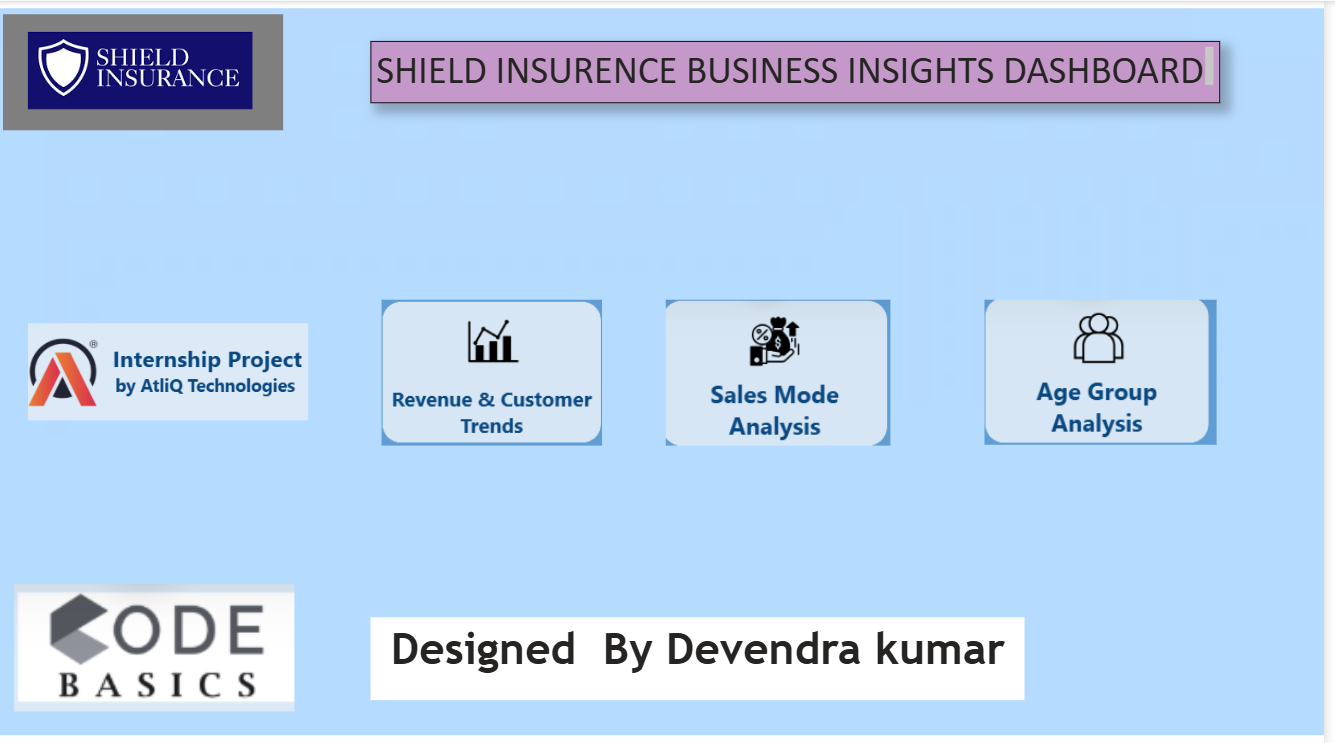

The page's visual inventory and layout, read from the dashboard file:
{"tool":"powerbi","page":{"name":"Page 2","canvas":[1280,720],"ordinal":1},"visuals":[{"type":"image","box":[9.8,0,1246.1,720.2],"z":0}]}

Visuals, with their boxes in screenshot pixels (x1, y1, x2, y2), scaled from the page's 1280x720 canvas onto the 1335x743 screenshot:
image: Rect(10, 0, 1310, 742)
